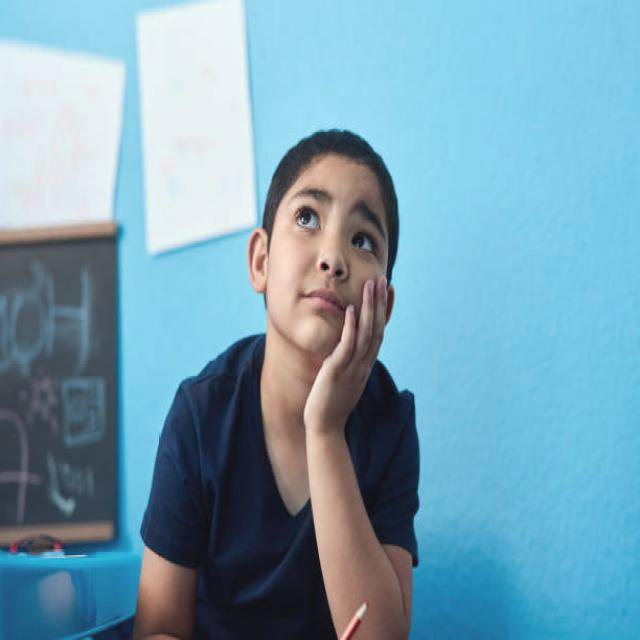Looking away: (266, 156, 386, 350)
